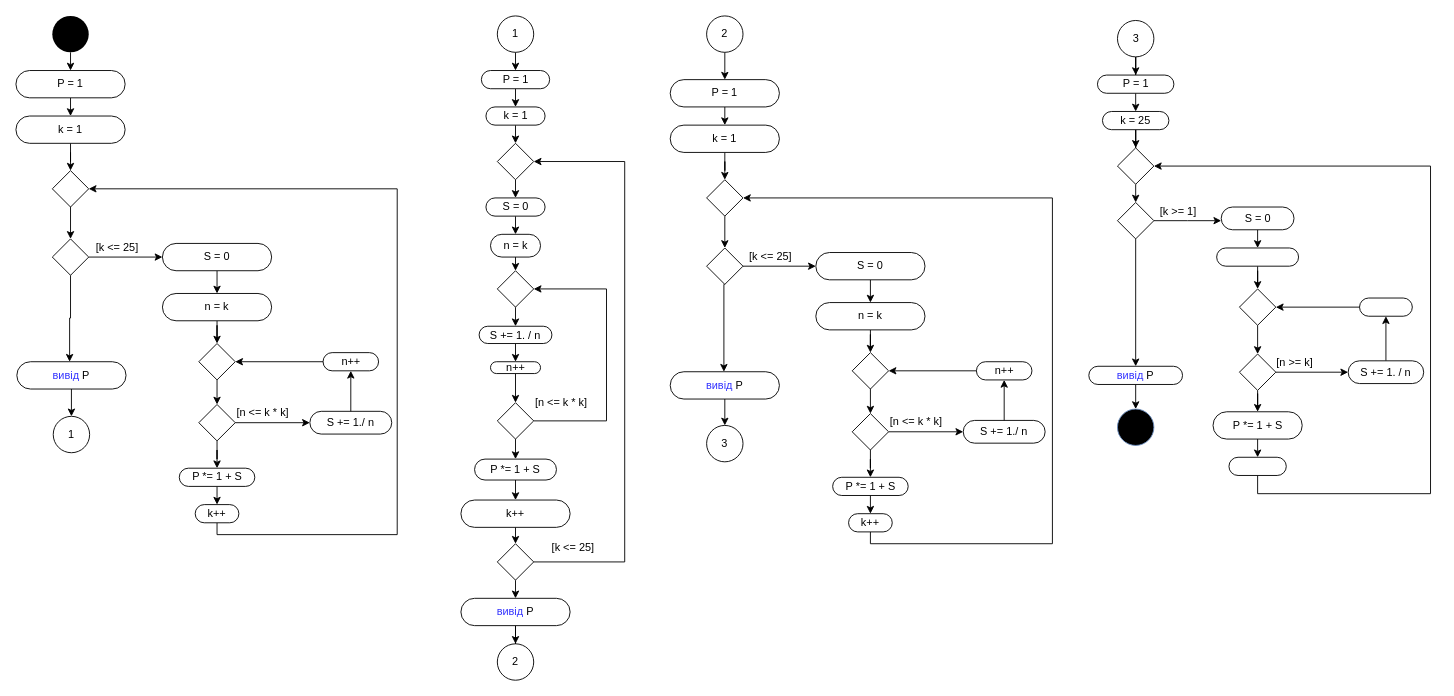
Image size: 1454x696. Some labels were removed from this diagram. The shapes that lost their labels are listed below. From the top down, each one's centre as x and y in pixels, then its label:
(1257,256): n = k * k
(1385,306): n--
(1257,465): k--
